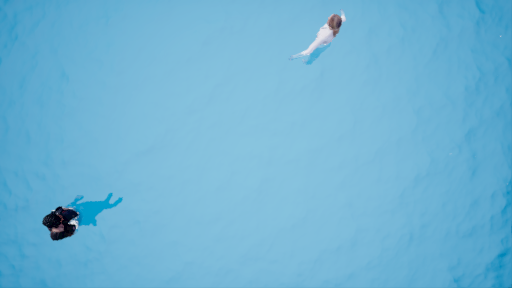person: (35, 187, 136, 239), (292, 13, 347, 68)
